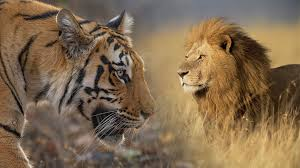lion: (175, 15, 300, 168)
tiger: (1, 1, 164, 164)
